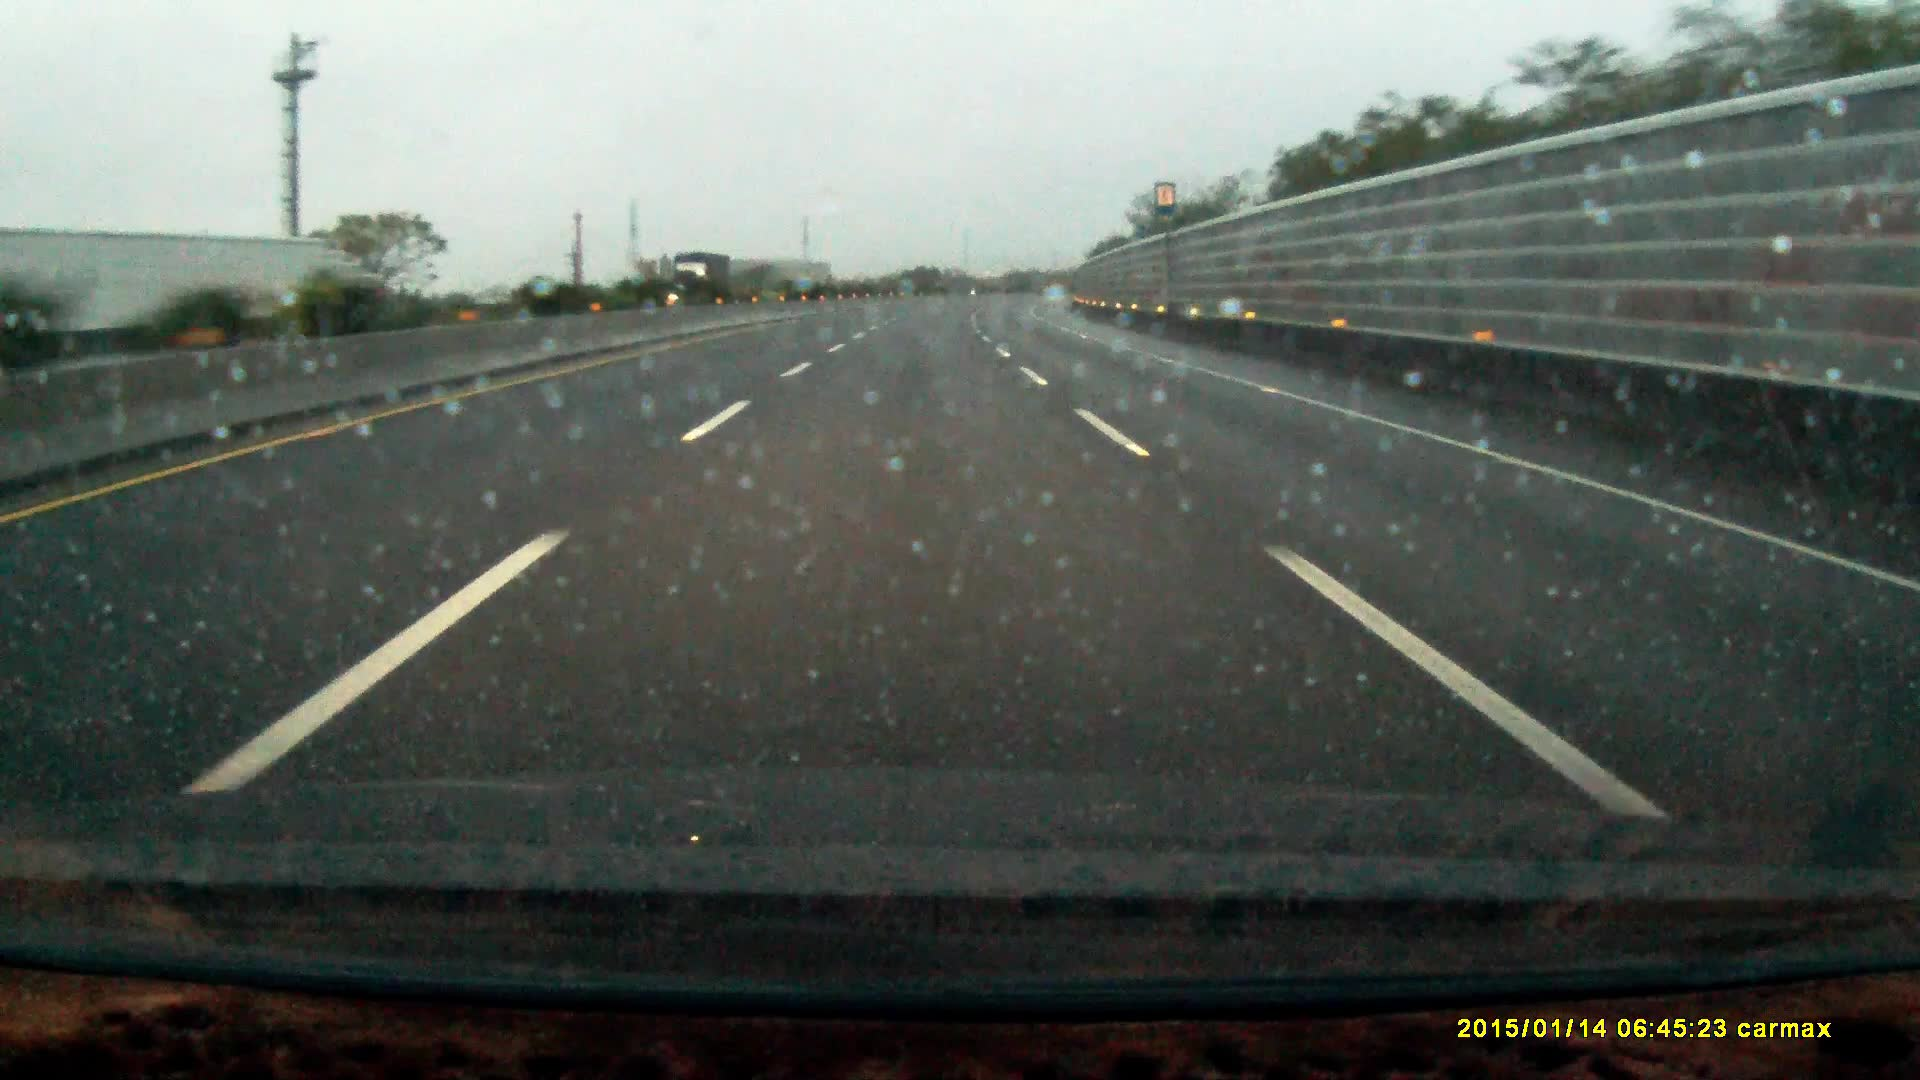vehicle: (673, 251, 733, 305)
